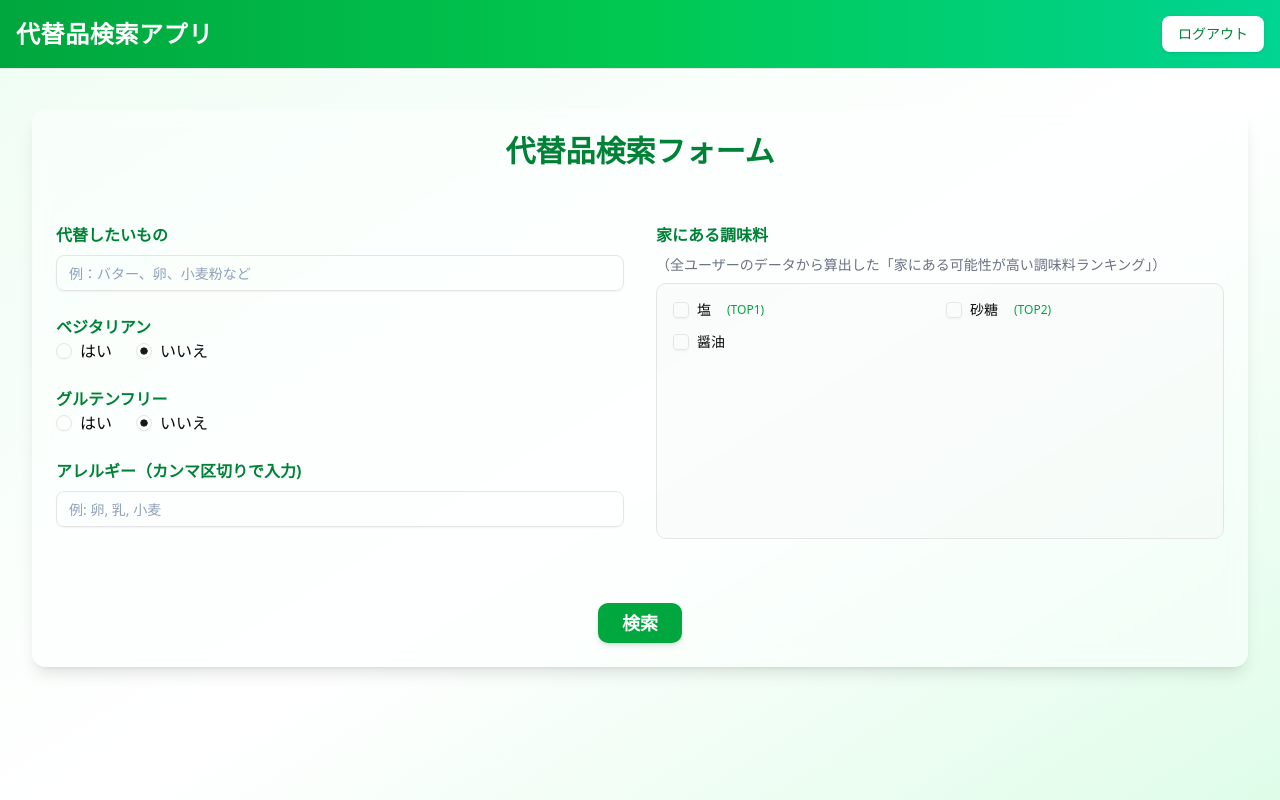
Scenario: 代替品検索画面 › 代替したいものがないとエラーメッセージが表示される
The image size is (1280, 800).
Clear the field labelled "代替したいもの" at (340, 273), box [56,255,624,291]
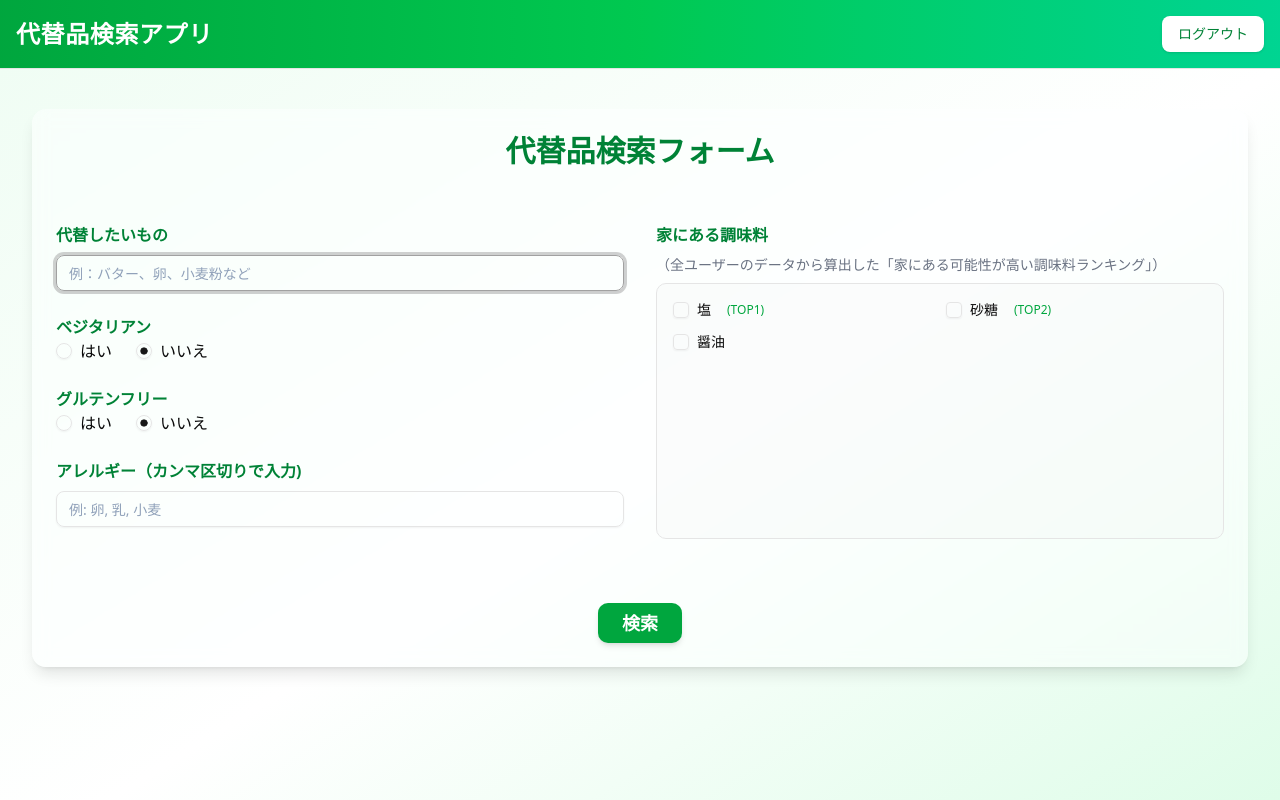
Click the button "検索".
click(640, 623)  # box [598,603,682,643]
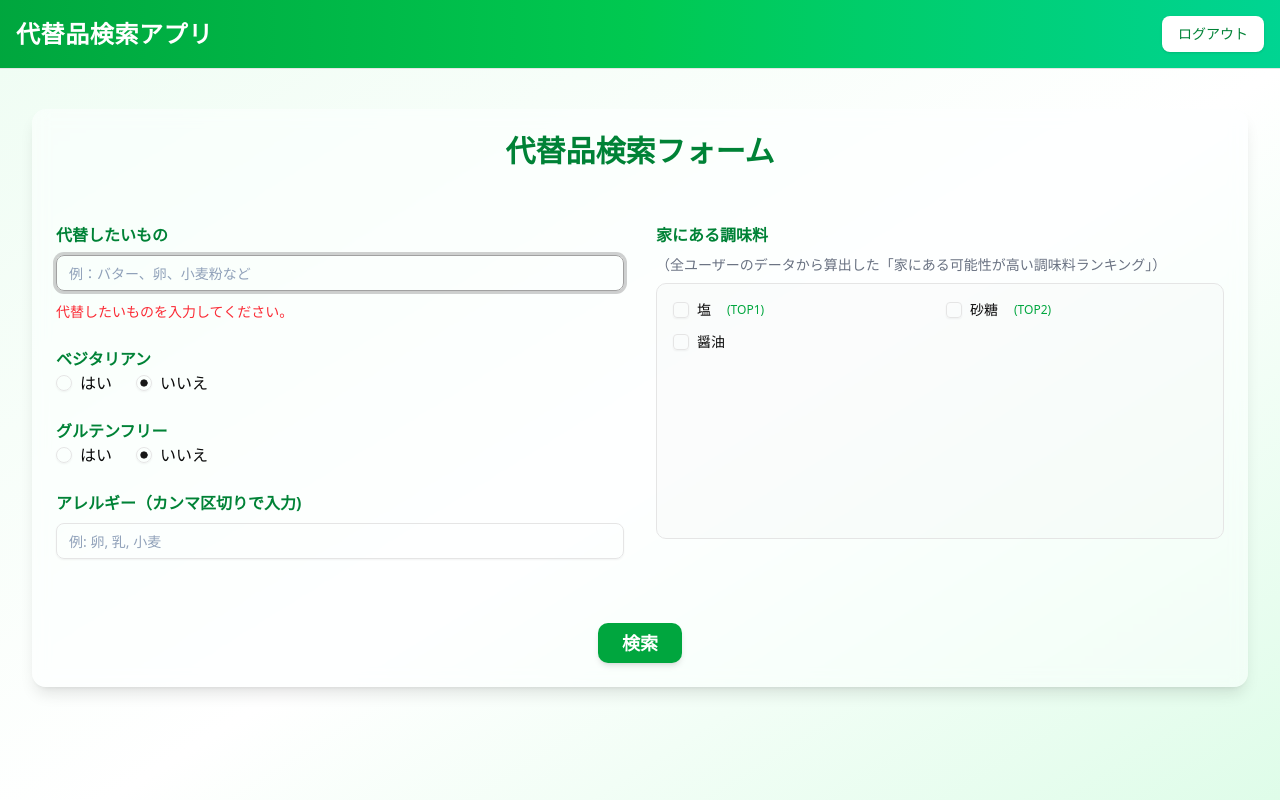
Now the text with test id "substituteErrMsg" reads "代替したいものを入力してください。", box [56,302,293,321]
